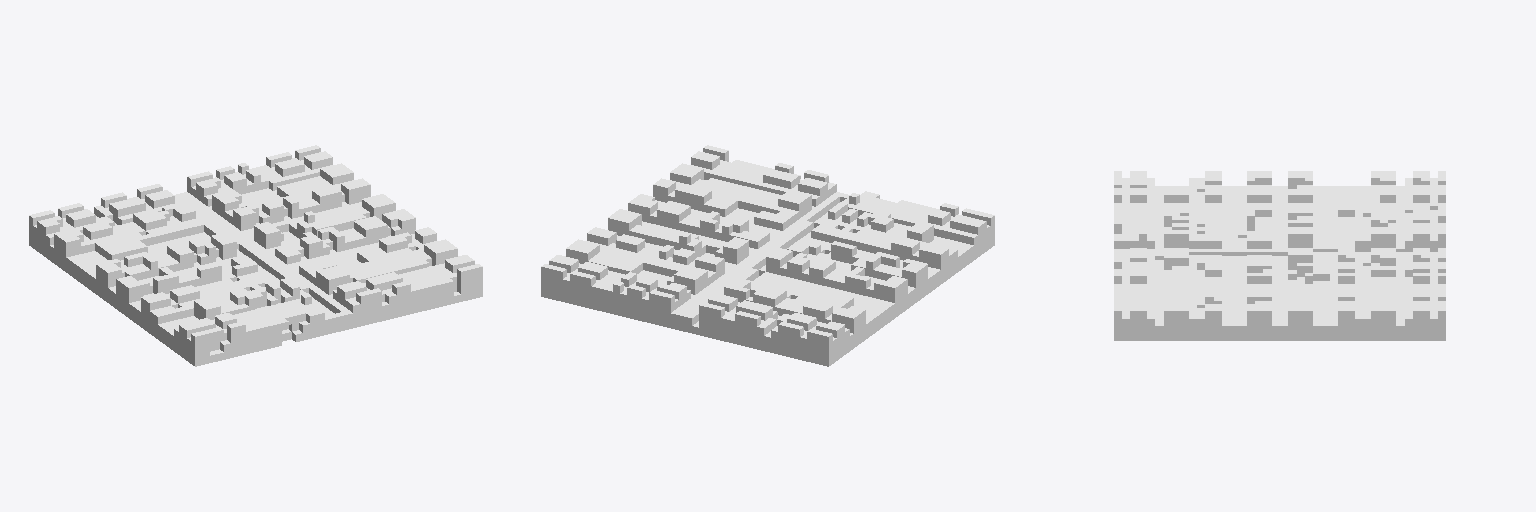
The model's file is terrain-grass1.obj.
3 views of the same model, side by side, from view 1: azimuth 30°, elevation 25°; view 2: azimuth 150°, elevation 25°; view 3: azimuth 270°, elevation 25° (orthographic).
Size of the model in its own units: 40 by 4 by 40.